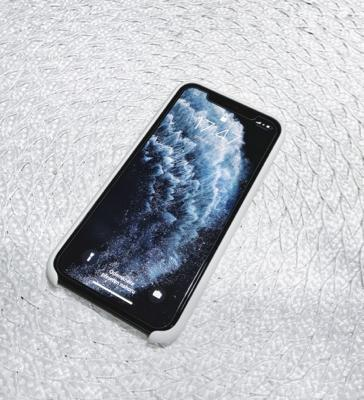Mobile Phone: (45, 81, 285, 348)
